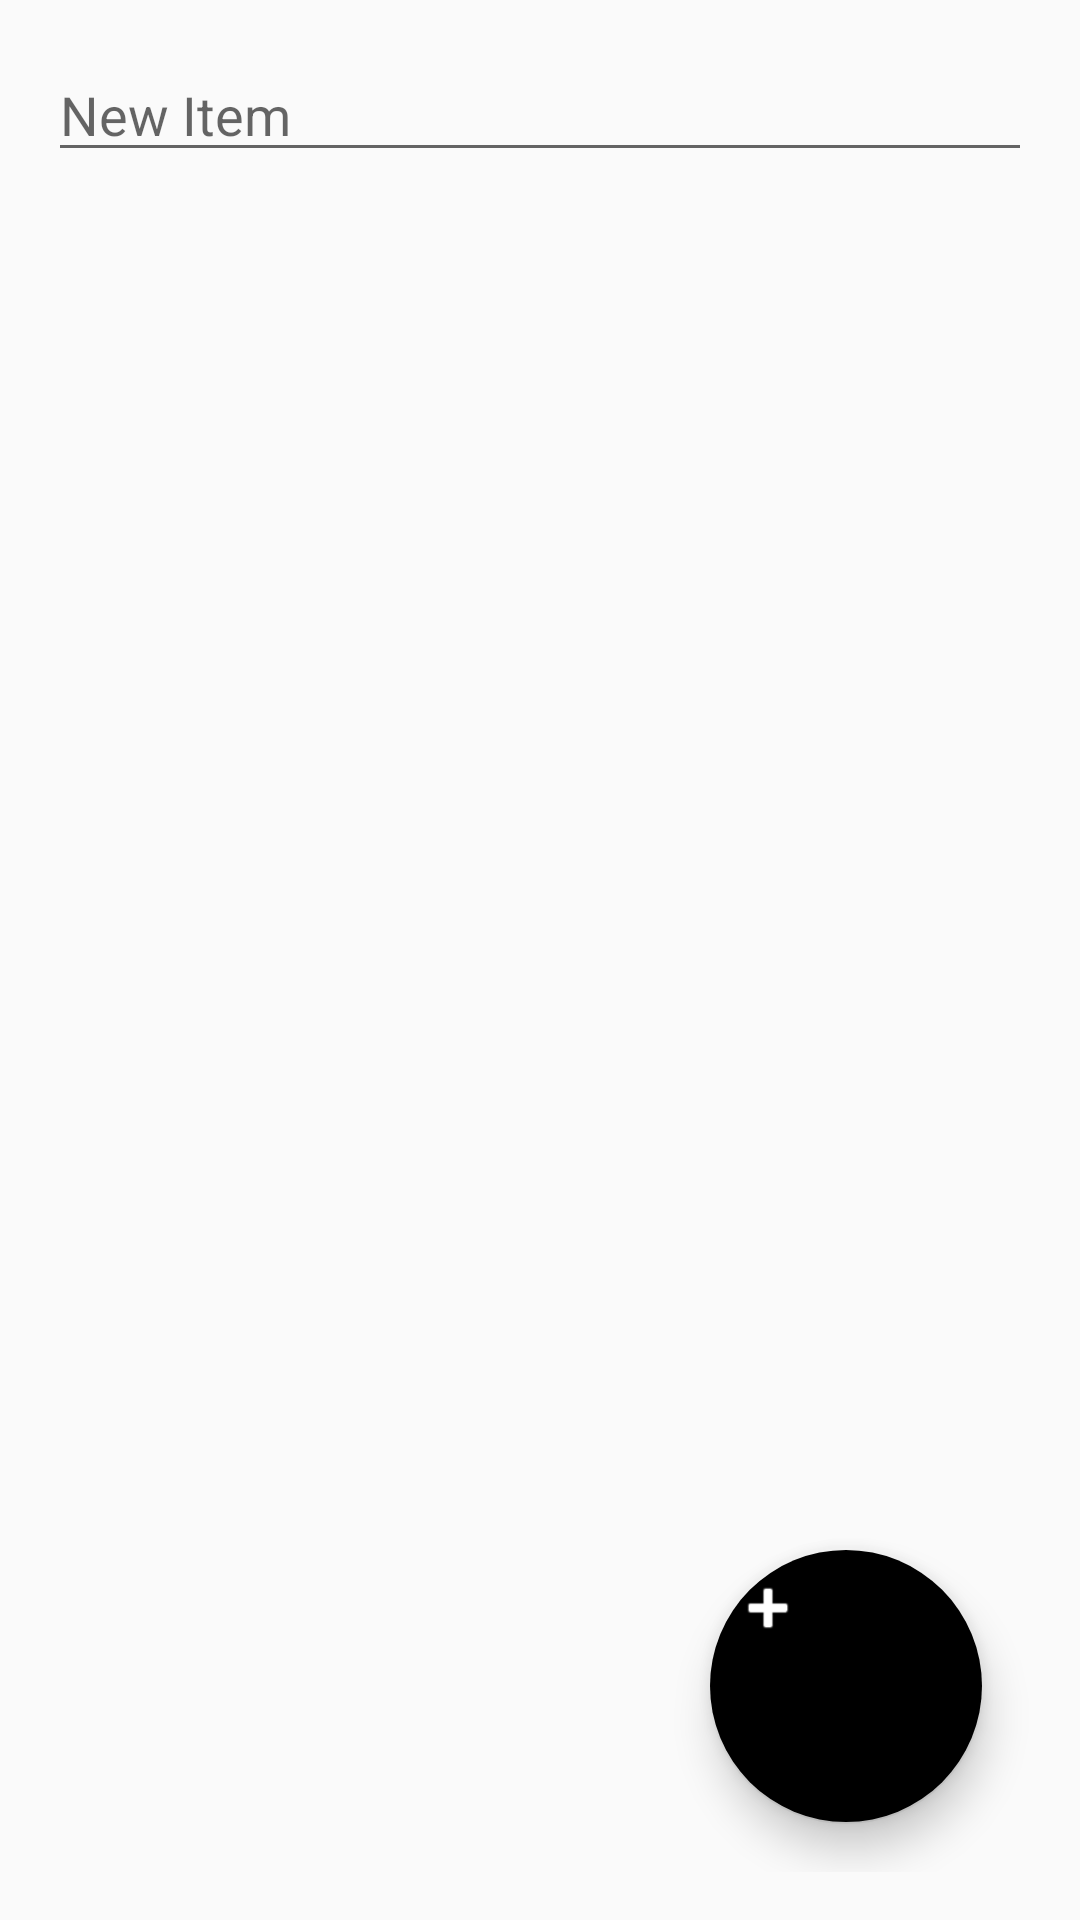

Where icons sit on this 1080*1920 app screen, as BBox(x1, y1, x2, y2):
add: BBox(709, 1550, 984, 1824)
